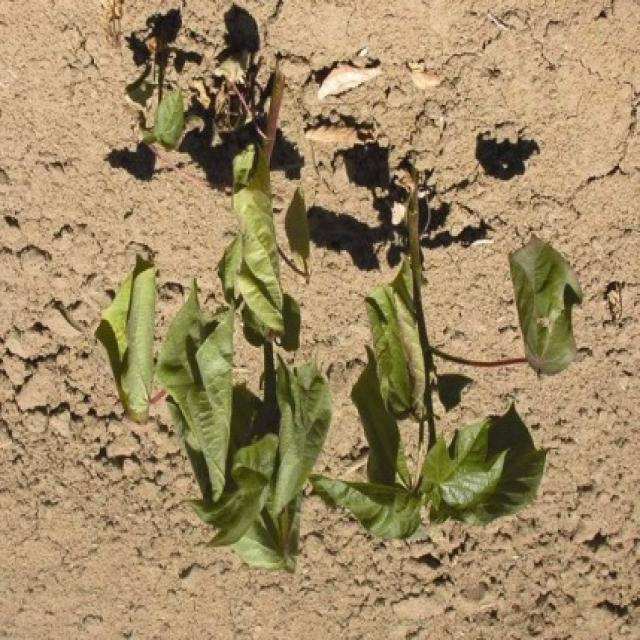Fusarium Wilt: (69, 21, 590, 640)
